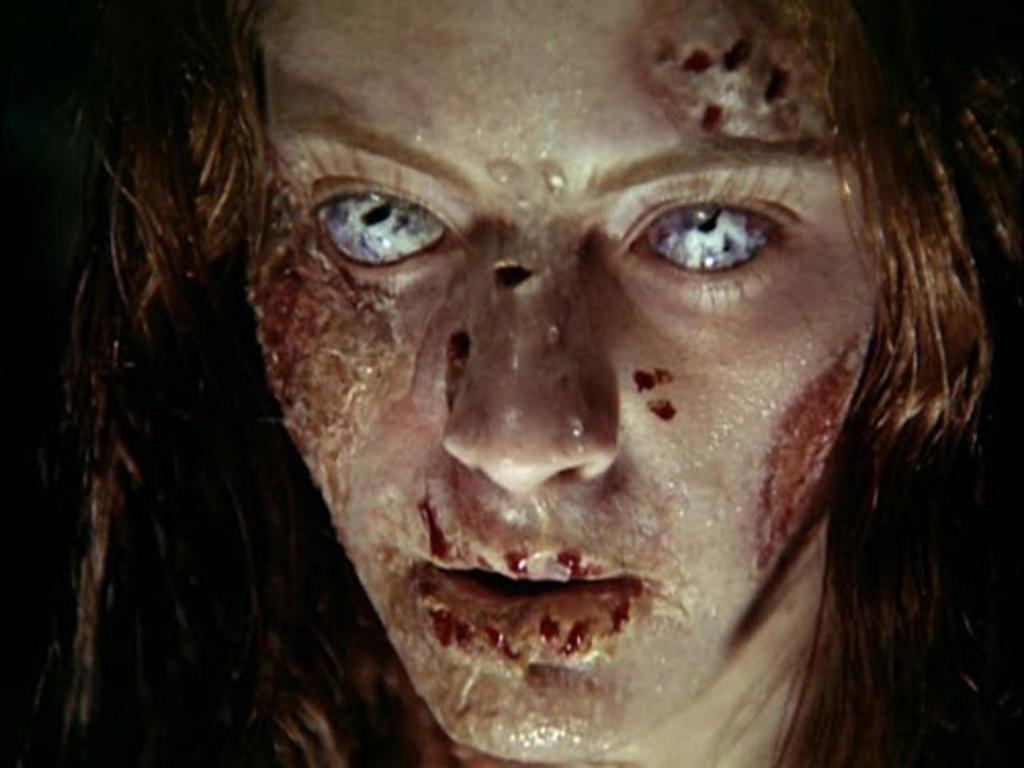face: (230, 6, 878, 740)
